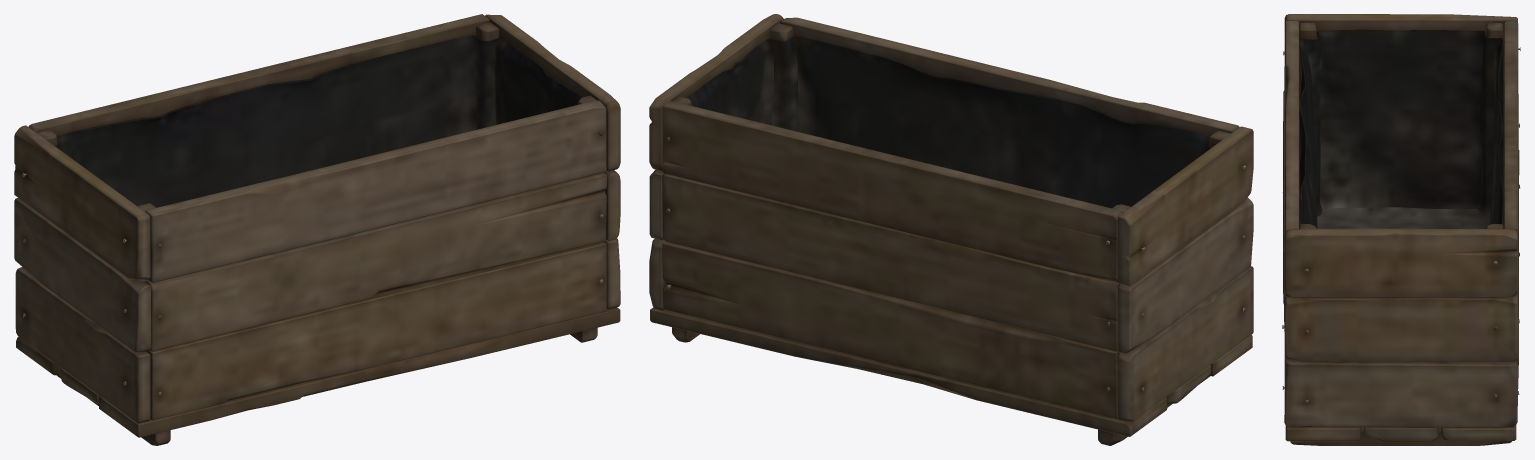
Rendered from planter_box_01.glb.
3 views of the same model, side by side, from view 1: azimuth 30°, elevation 25°; view 2: azimuth 150°, elevation 25°; view 3: azimuth 270°, elevation 25° (orthographic). The views are drawn at different scales.
Parts seen in each view (by area): view 1: planter_box_01; view 2: planter_box_01; view 3: planter_box_01.
Part boxes in pixels (left/top/right/bottom): planter_box_01: left=14, top=14, right=620, bottom=445; planter_box_01: left=649, top=14, right=1253, bottom=445; planter_box_01: left=1282, top=14, right=1520, bottom=445.
Bounding box in the file's own units: 0.9126 × 0.4249 × 0.4137.
1 material, 1 textured.
